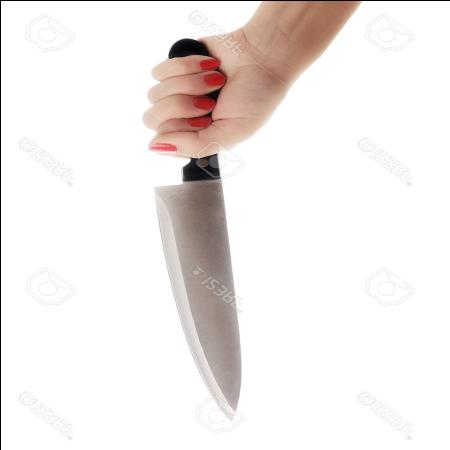long weapon: (128, 57, 246, 433)
